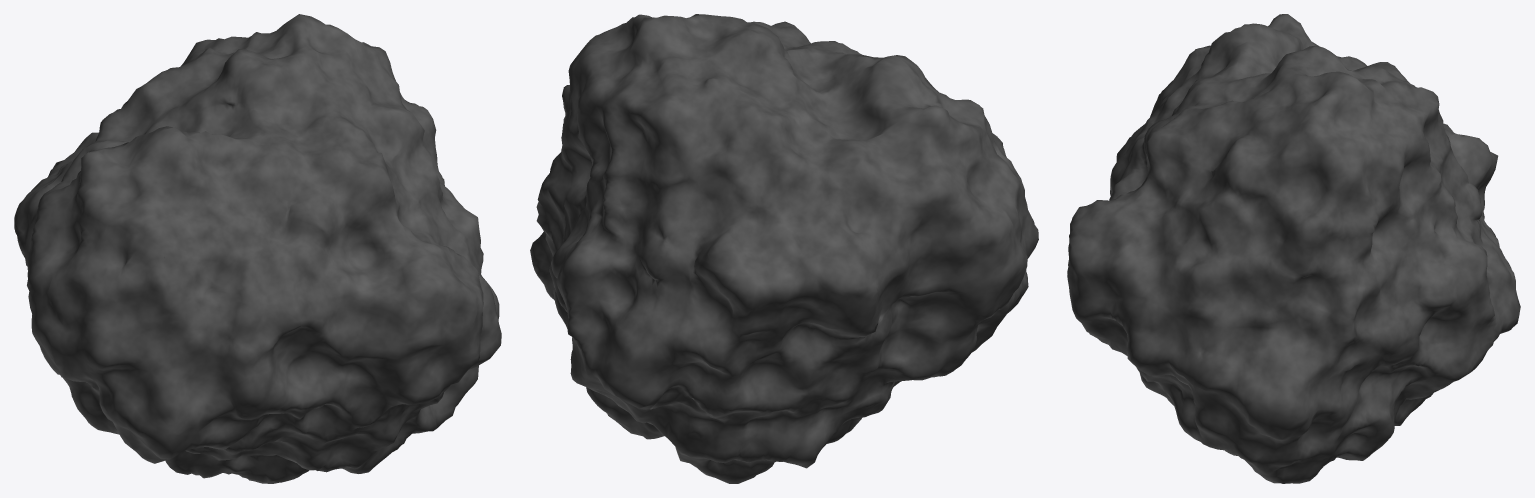
Rendered from asteroid.fbx.
3 renders of one model, left to right at view 1: azimuth 30°, elevation 25°; view 2: azimuth 150°, elevation 25°; view 3: azimuth 270°, elevation 25°, orthographic. The views are drawn at different scales.
Parts seen in each view (by area): view 1: Icosphere; view 2: Icosphere; view 3: Icosphere.
Part boxes in pixels (bbox=[...]): Icosphere: bbox=[14, 14, 501, 483]; Icosphere: bbox=[530, 14, 1038, 483]; Icosphere: bbox=[1067, 14, 1520, 483].
Size of the model in its own units: 232 by 208 by 212.
Materials: 1 (1 with a texture image).
